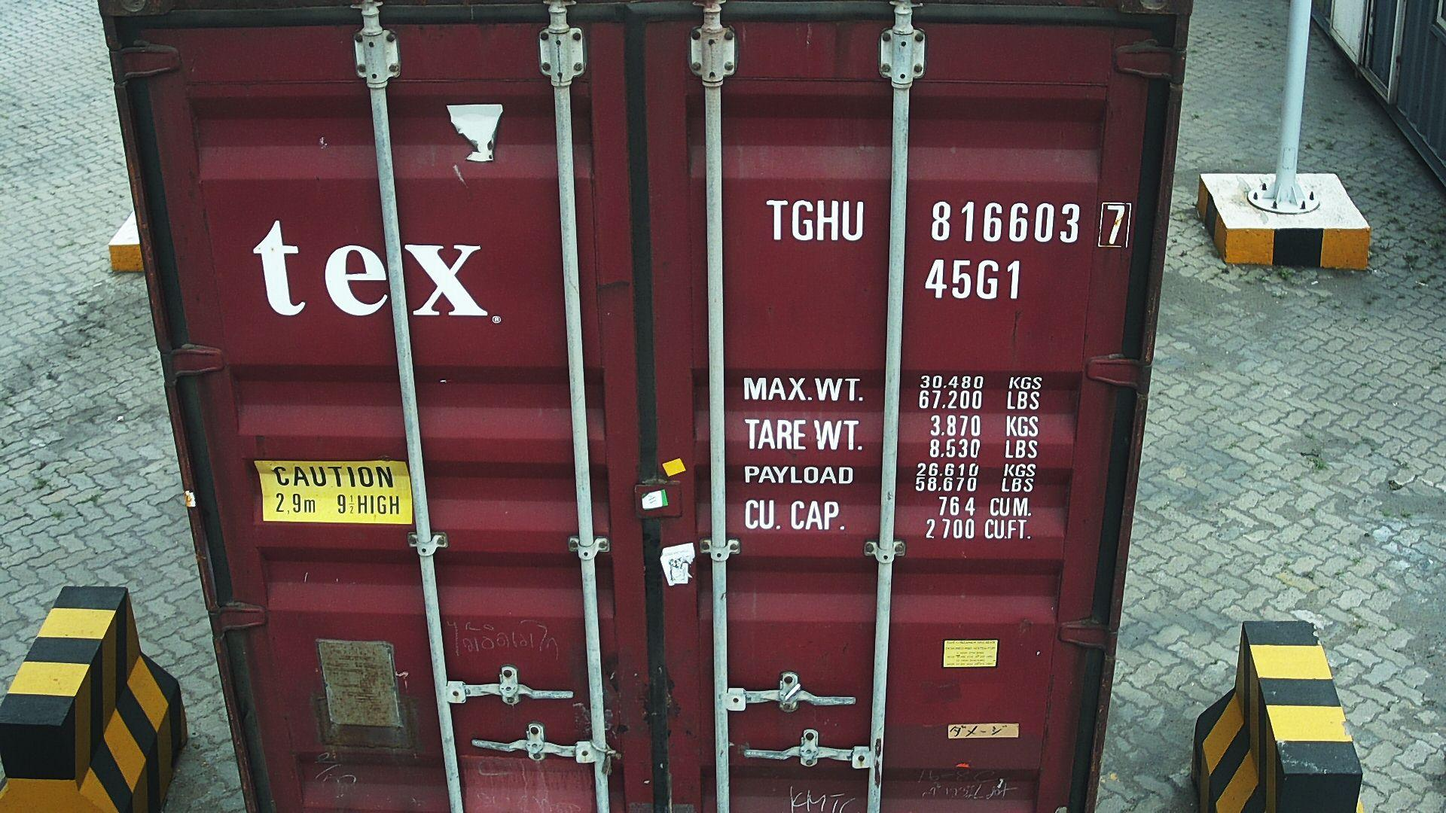container-numbers: (763, 196, 1136, 251), (921, 256, 1026, 303)
